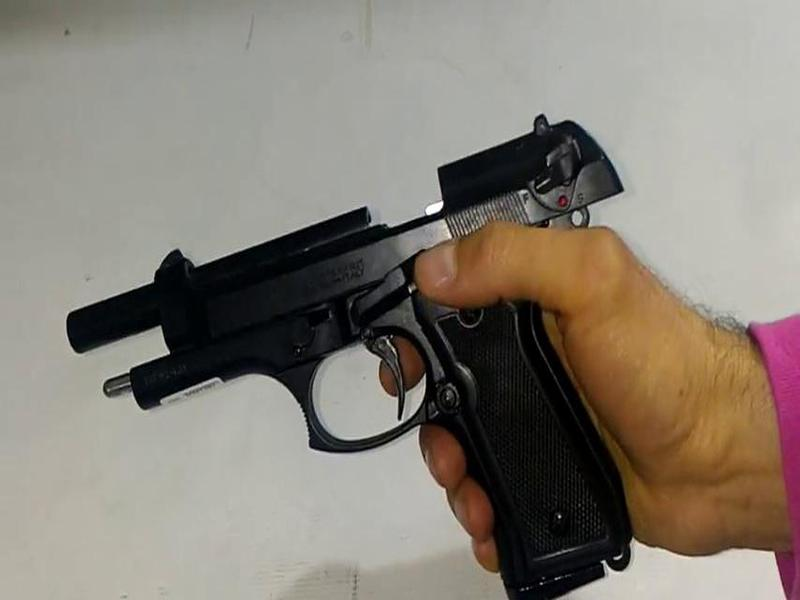Pistola: (55, 94, 668, 600)
